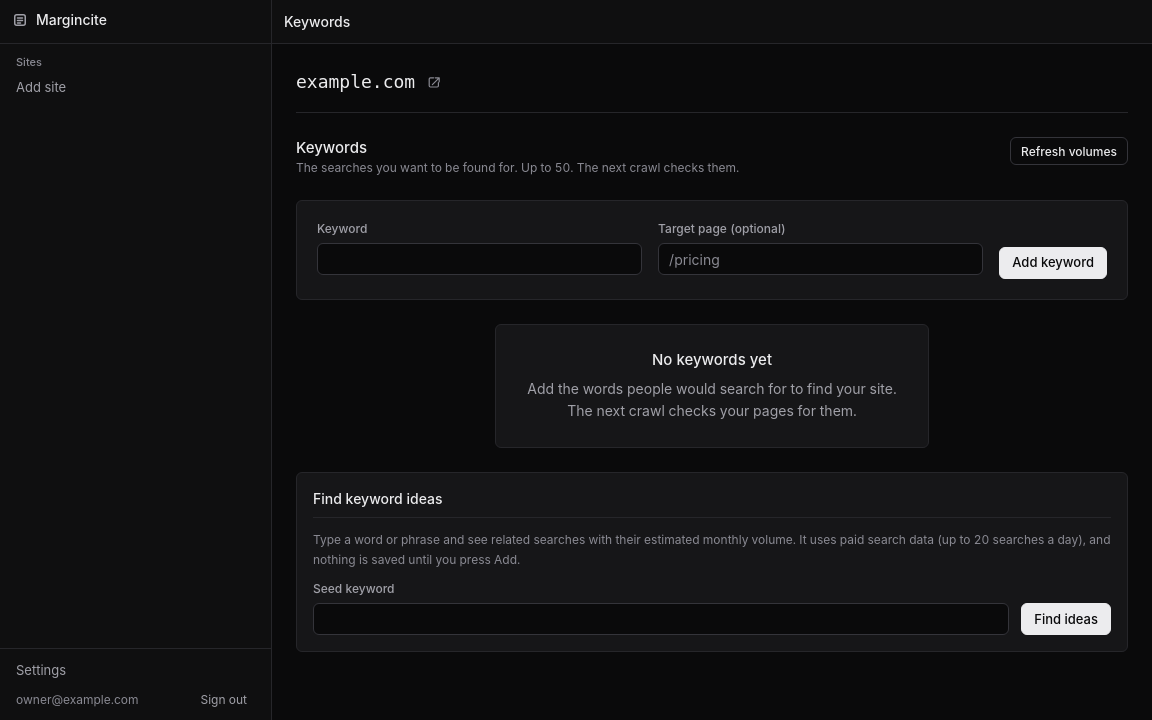
Test case: a keyword without a target page sends no target
In the field labelled "Keyword": [480, 259] box [317, 243, 642, 275], type "atlas"
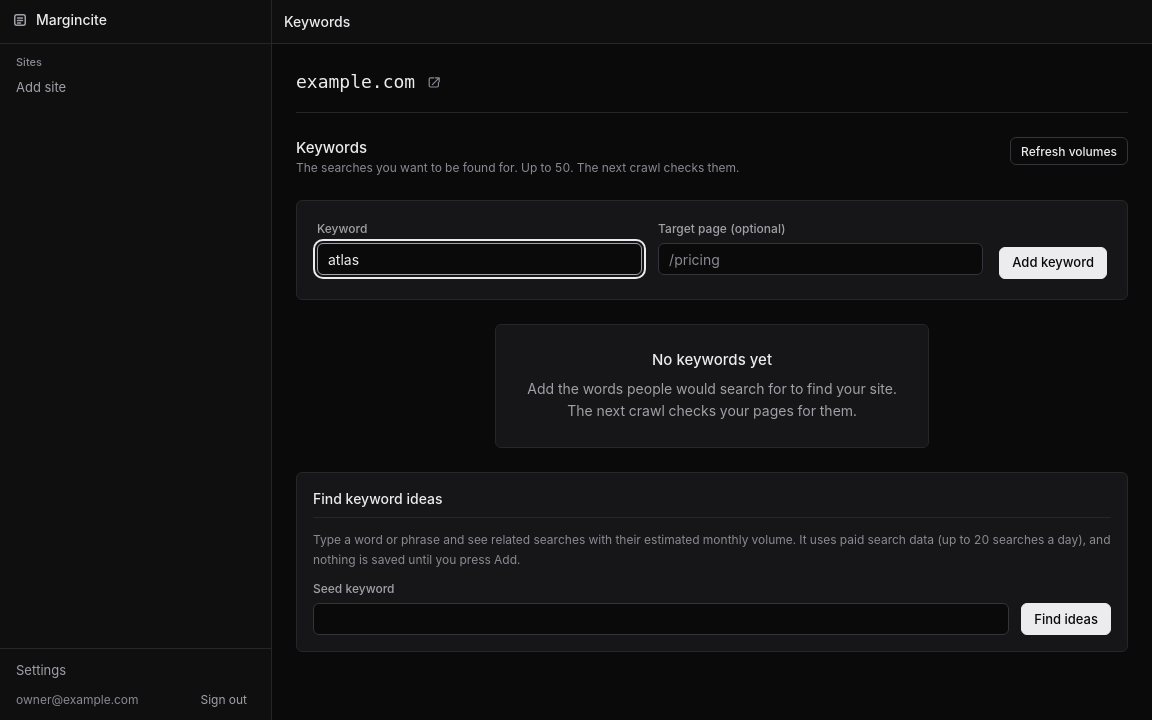
Click the button "Add keyword": [1053, 263] box [999, 247, 1107, 279]
(page scrolled)
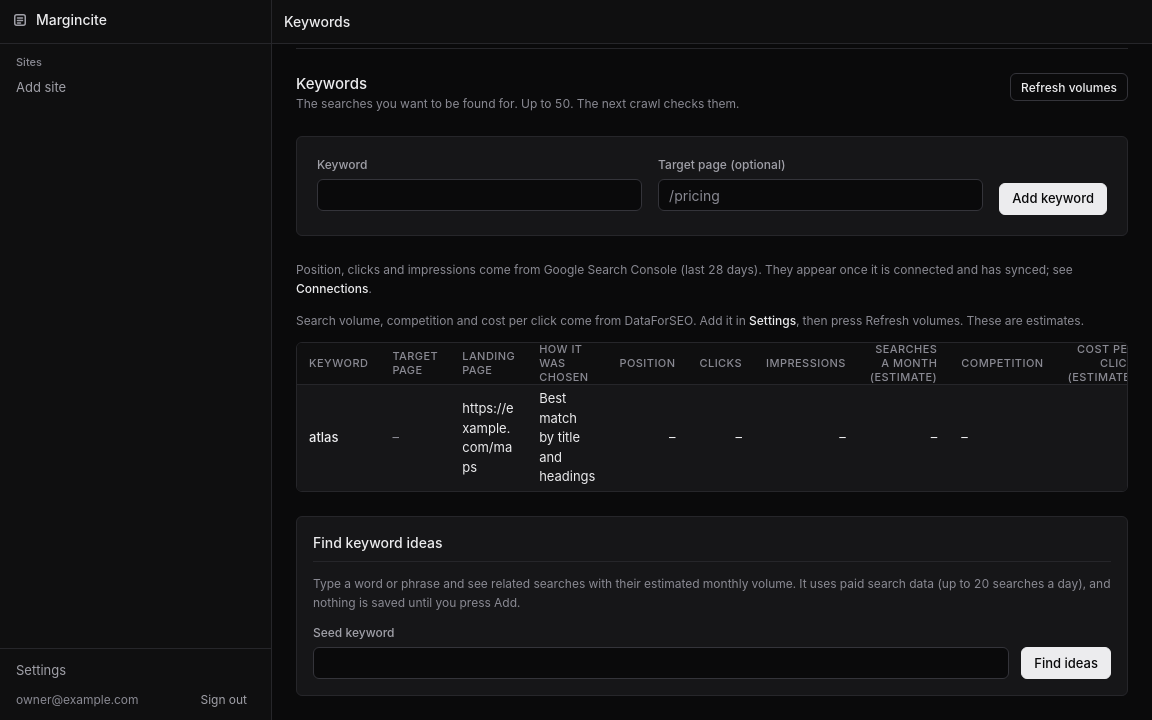
Now the table named "Target keywords" is shown, box [297, 343, 1128, 491]
